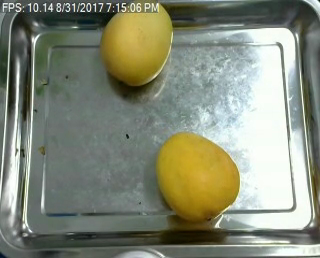Mango: (154, 131, 240, 221), (96, 1, 176, 85)
